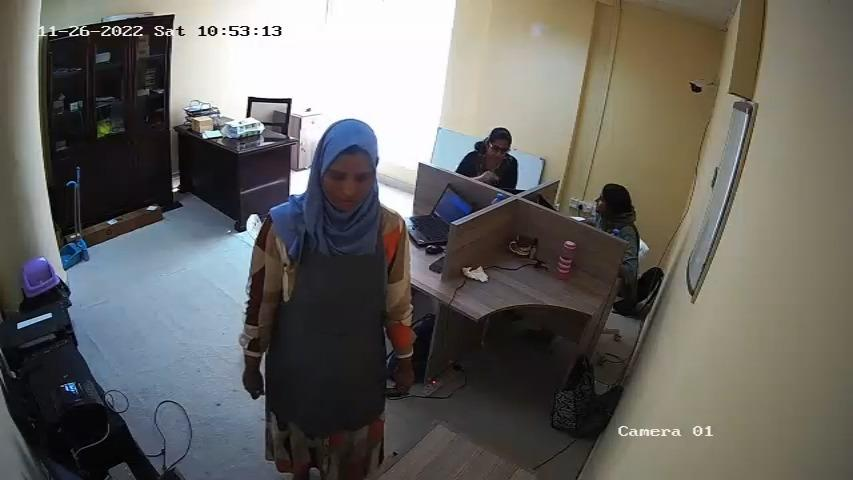apron: (268, 209, 390, 428)
